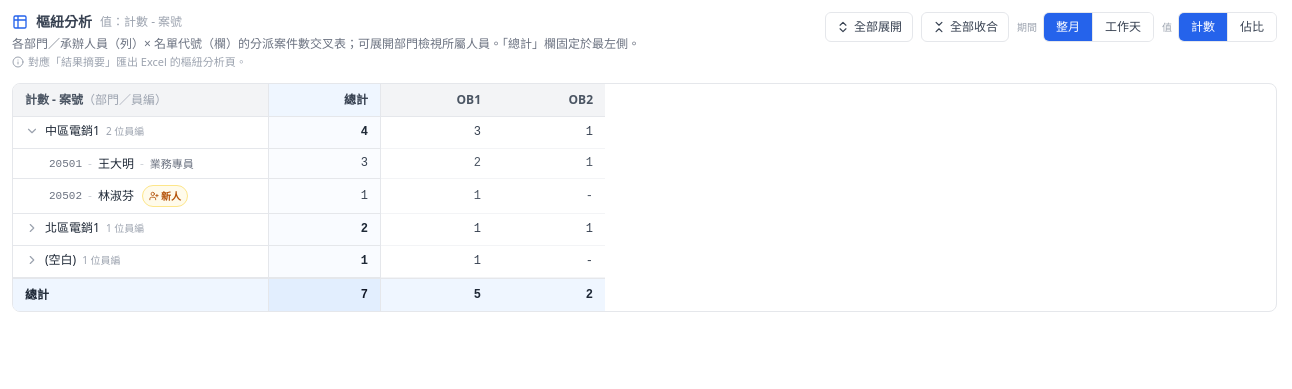
SnapshotPivotView — F116 v1.1（US-182） › AC-9 / BR-11：欄序（總計欄置左、總計列維持最下） › TS-F116-036：「總計」列（橫向）不受總計欄（縱向）移動影響，仍維持在表格最下方
Expected: the element with test id "pivot-table" is shown, [12,82,1277,312]
Click the button with test id "pivot-expand-all". click: click(869, 27)
box: [825,12,913,42]
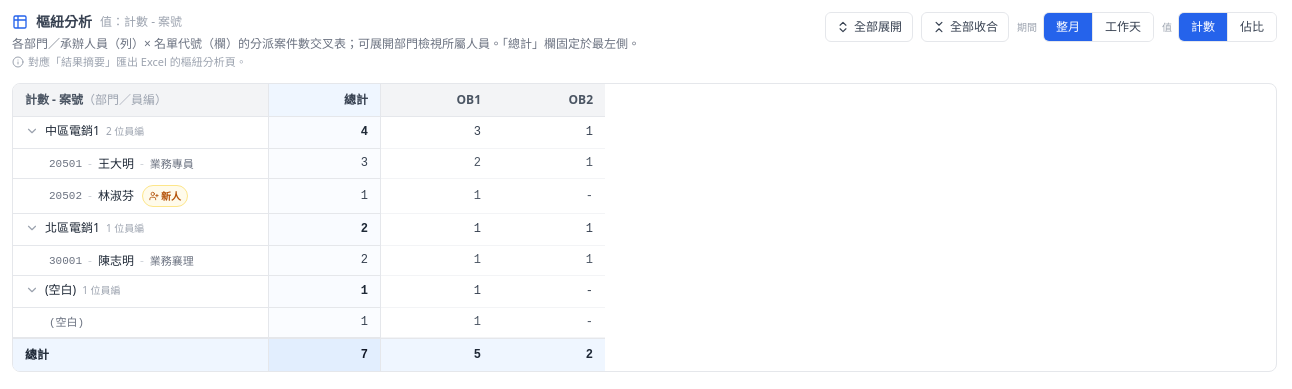
Expected: the text "陳志明" is shown, [98,252,134,268]
